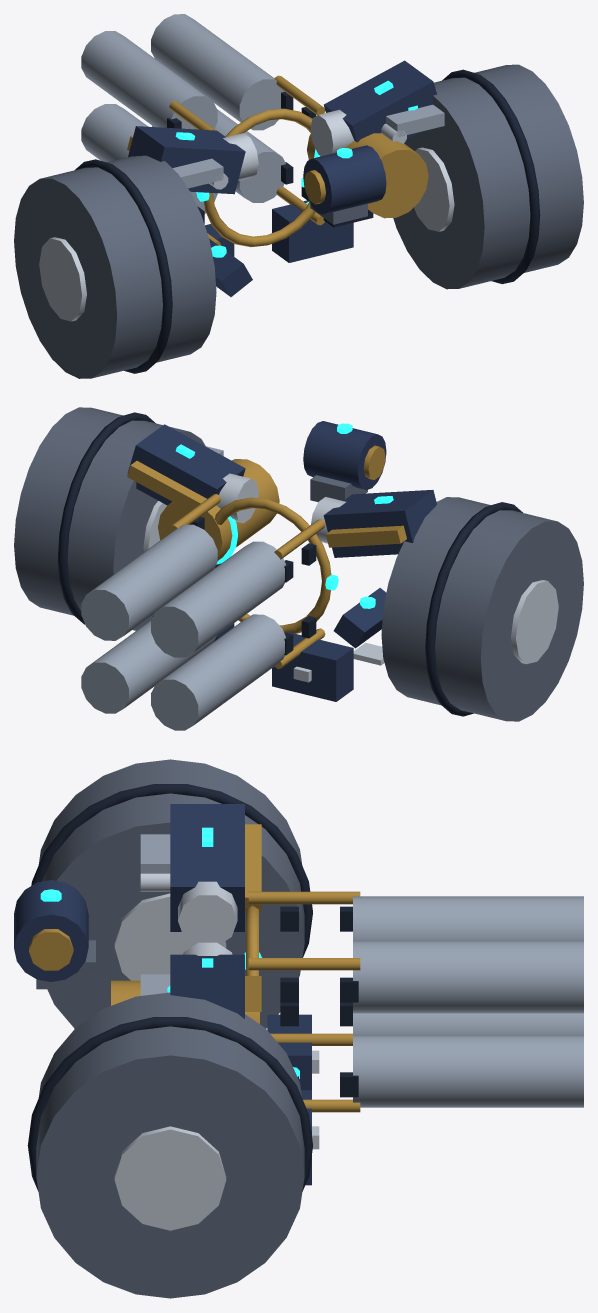
Rendered from tower_skywatch_rate_s10.glb.
3 views of the same model, one above another, from view 1: azimuth 30°, elevation 25°; view 2: azimuth 150°, elevation 25°; view 3: azimuth 270°, elevation 25° (orthographic). The views are drawn at different scales.
Visible parts, largest first — view 1: skywatch_big_drum_r, skywatch_big_drum_l, skywatch_cool_jacket1, skywatch_cool_jacket3, skywatch_feed_cover_l, skywatch_feed_cover_r, skywatch_feed_motor, skywatch_cool_tank, skywatch_big_drum_cap_r, skywatch_belt_box-0.24, skywatch_cool_jacket2, skywatch_big_drum_rib_r (+13 smaller); view 2: skywatch_big_drum_r, skywatch_big_drum_l, skywatch_cool_jacket2, skywatch_cool_jacket1, skywatch_cool_jacket3, skywatch_cool_jacket0, skywatch_feed_cover_l, skywatch_feed_cover_r, skywatch_feed_motor, skywatch_belt_box0.24, skywatch_cool_tank, skywatch_big_drum_cap_r (+15 smaller); view 3: skywatch_big_drum_l, skywatch_big_drum_r, skywatch_cool_jacket0, skywatch_cool_jacket1, skywatch_cool_jacket3, skywatch_big_drum_cap_l, skywatch_feed_cover_r, skywatch_cool_jacket2, skywatch_feed_motor, skywatch_big_drum_rib_l, skywatch_big_drum_cap_r, skywatch_big_drum_rib_r (+13 smaller).
Part boxes in pixels (x1,y1,x2,y2): skywatch_big_drum_r: [14, 155, 216, 378]; skywatch_big_drum_l: [393, 64, 583, 289]; skywatch_cool_jacket1: [151, 14, 284, 130]; skywatch_cool_jacket3: [81, 31, 217, 129]; skywatch_feed_cover_l: [324, 60, 436, 142]; skywatch_feed_cover_r: [128, 126, 245, 194]; skywatch_feed_motor: [303, 145, 386, 214]; skywatch_cool_tank: [307, 133, 428, 218]; skywatch_big_drum_cap_r: [39, 237, 86, 321]; skywatch_belt_box-0.24: [272, 200, 353, 262]; skywatch_cool_jacket2: [81, 104, 217, 214]; skywatch_big_drum_rib_r: [75, 159, 172, 373]; skywatch_big_drum_r: [381, 497, 583, 721]; skywatch_big_drum_l: [14, 407, 205, 630]; skywatch_cool_jacket2: [151, 614, 285, 730]; skywatch_cool_jacket1: [81, 524, 217, 640]; skywatch_cool_jacket3: [151, 541, 285, 657]; skywatch_cool_jacket0: [81, 620, 216, 713]; skywatch_feed_cover_l: [127, 424, 245, 505]; skywatch_feed_cover_r: [323, 490, 436, 557]; skywatch_feed_motor: [303, 421, 386, 490]; skywatch_belt_box0.24: [272, 632, 353, 701]; skywatch_cool_tank: [158, 459, 279, 560]; skywatch_big_drum_cap_r: [511, 580, 558, 664]; skywatch_big_drum_l: [36, 992, 304, 1298]; skywatch_big_drum_r: [38, 759, 304, 1028]; skywatch_cool_jacket0: [353, 1034, 583, 1107]; skywatch_cool_jacket1: [353, 940, 583, 1013]; skywatch_cool_jacket3: [353, 896, 583, 940]; skywatch_big_drum_cap_l: [114, 1126, 226, 1230]; skywatch_feed_cover_r: [170, 804, 244, 931]; skywatch_cool_jacket2: [353, 1013, 583, 1034]; skywatch_feed_motor: [14, 880, 88, 981]; skywatch_big_drum_rib_l: [27, 1017, 312, 1191]; skywatch_big_drum_cap_r: [114, 893, 226, 980]; skywatch_big_drum_rib_r: [31, 784, 312, 957].
Bounding box in the file's own units: 1.92 × 0.794 × 1.53.
